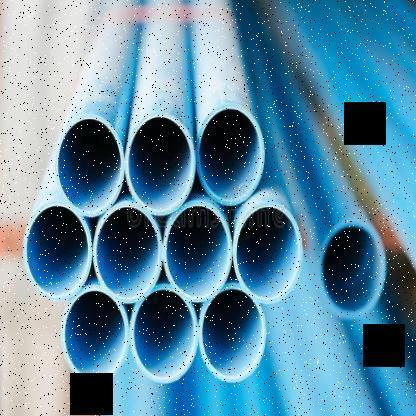pipe: (233, 201, 304, 304), (125, 112, 195, 216), (93, 200, 162, 304), (55, 113, 123, 218), (162, 200, 232, 302), (22, 200, 92, 300), (319, 219, 389, 318), (196, 104, 264, 204), (198, 282, 266, 382), (130, 284, 198, 384), (60, 286, 129, 384)
